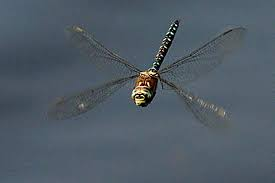insect: (45, 19, 246, 129)
